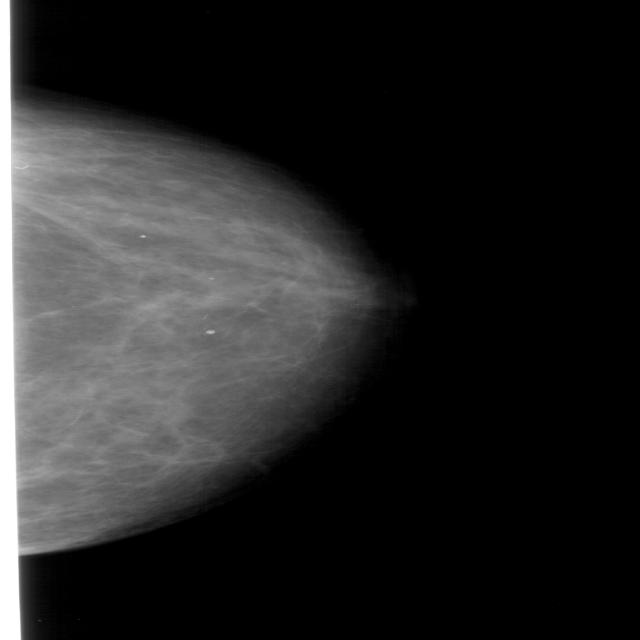normal: (0, 93, 392, 569)
